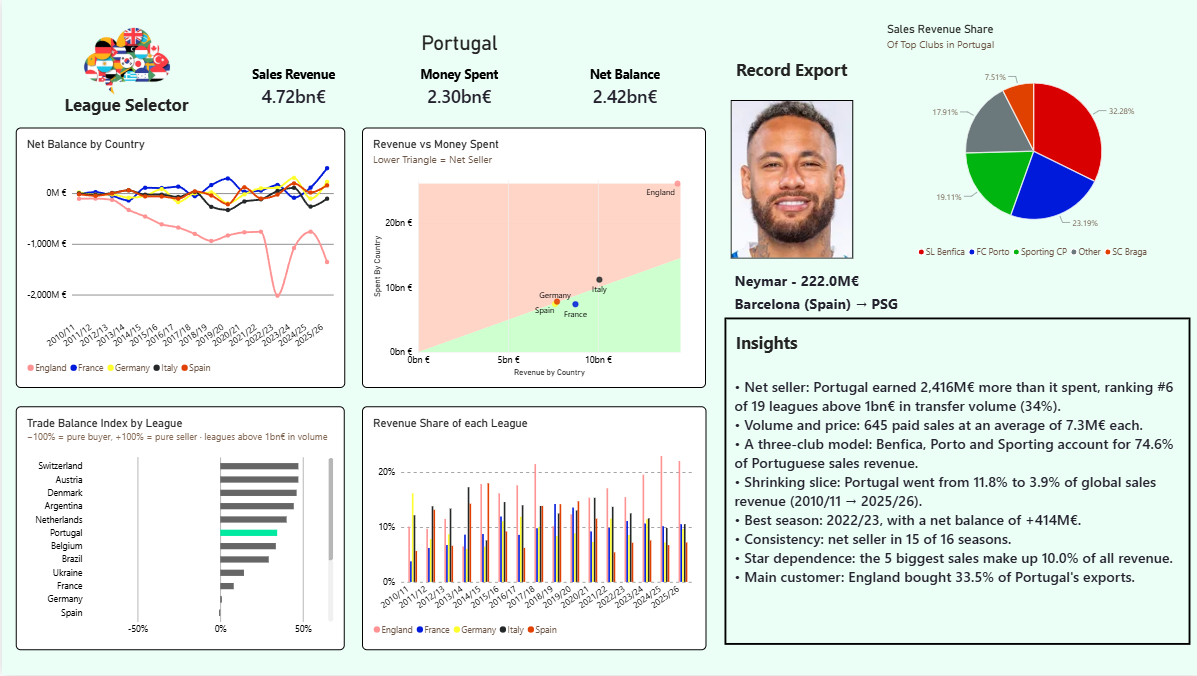

Layout of this report page (visuals, bound fields, positions):
{"tool":"powerbi","page":{"name":"Leagues","canvas":[1920,1080],"ordinal":0},"visuals":[{"type":"cardVisual","fields":{"Data":["_Measures.Card Revenue","_Measures.Card Spend","_Measures.Card Net Balance"]},"box":[338,50,788,126],"z":0},{"type":"lineChart","title":"Net Balance by Country","fields":{"Category":["Dates.Season"],"Series":["Countries.Country"],"Y":["_Measures.Net Balance by Country"]},"box":[21.4,204.3,527.1,417.1],"z":1000},{"type":"scatterChart","title":"Revenue vs Money Spent","fields":{"Category":["Countries.Country"],"Series":["Countries.Country"],"X":["_Measures.Revenue by Country"],"Y":["_Measures.Spend by Country"]},"box":[575.7,204.3,550,417.1],"z":2000},{"type":"clusteredBarChart","title":"Trade Balance Index by League","fields":{"Category":["Countries.Country"],"Y":["_Measures.Trade Balance Index"]},"box":[21.8,650,526.4,390],"z":3000},{"type":"clusteredColumnChart","title":"Revenue Share of each League","fields":{"Category":["Dates.Season"],"Series":["Countries.Country"],"Y":["_Measures.Revenue Share"]},"box":[575.5,650,550.9,390],"z":4000},{"type":"pieChart","title":"Sales Revenue Share","fields":{"Category":["clubs.name (groups)"],"Y":["_Measures.Sales Revenue"]},"box":[1400,22.9,501.4,411.4],"z":5000},{"type":"image","box":[1165.7,159,195.8,253.3],"z":6000},{"type":"cardVisual","fields":{"Data":["_Measures.Top Sale Label","_Measures.Top Sale Route"]},"box":[1155.7,434.3,745.7,65.7],"z":7000},{"type":"textbox","box":[1161.4,92.9,202.9,45.7],"z":8000},{"type":"cardVisual","fields":{"Data":["_Measures.Insights Leagues"]},"box":[1155.5,500.4,745.5,539.8],"z":9000},{"type":"textbox","box":[1174.5,529.6,610,48],"z":10000},{"type":"shape","box":[1156,508,745.5,523.8],"z":11000},{"type":"image","box":[78.6,8.6,244.3,168.6],"z":12000},{"type":"textbox","box":[100,148.6,201.7,48.3],"z":13502}]}

Visuals, with their boxes in screenshot pixels (x1, y1, x2, y2), scaled from the page's 1920x1080 canvas onto the 1197x676 screenshot:
cardVisual - _Measures.Card Revenue x _Measures.Card Spend: locate(211, 31, 702, 110)
"Net Balance by Country" lineChart: locate(13, 128, 342, 389)
"Revenue vs Money Spent" scatterChart: locate(359, 128, 702, 389)
"Trade Balance Index by League" clusteredBarChart: locate(14, 407, 342, 651)
"Revenue Share of each League" clusteredColumnChart: locate(359, 407, 702, 651)
"Sales Revenue Share" pieChart: locate(873, 14, 1185, 272)
image: locate(727, 100, 849, 258)
cardVisual - _Measures.Top Sale Label x _Measures.Top Sale Route: locate(721, 272, 1185, 313)
textbox: locate(724, 58, 851, 87)
cardVisual - _Measures.Insights Leagues: locate(720, 313, 1185, 651)
textbox: locate(732, 331, 1113, 362)
shape: locate(721, 318, 1185, 646)
image: locate(49, 5, 201, 111)
textbox: locate(62, 93, 188, 123)
